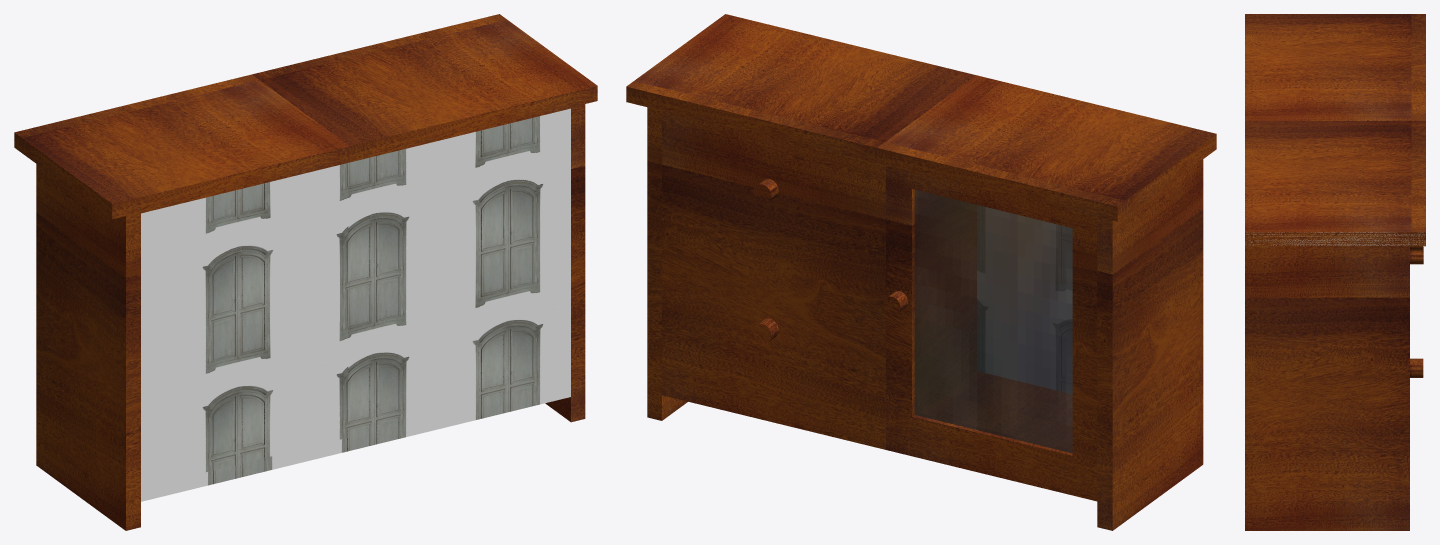
3 views of the same model, side by side, from view 1: azimuth 30°, elevation 25°; view 2: azimuth 150°, elevation 25°; view 3: azimuth 270°, elevation 25° (orthographic). The views are drawn at different scales.
Parts seen in each view (by area): view 1: mesh1_mesh1-geometry; view 2: mesh1_mesh1-geometry; view 3: mesh1_mesh1-geometry.
Boxes of the visible parts, bbox=[...] form: mesh1_mesh1-geometry: bbox=[14, 14, 597, 530]; mesh1_mesh1-geometry: bbox=[626, 14, 1216, 530]; mesh1_mesh1-geometry: bbox=[1245, 14, 1425, 530].
Bounding box in the file's own units: 0.8045 × 0.5229 × 0.2816.
